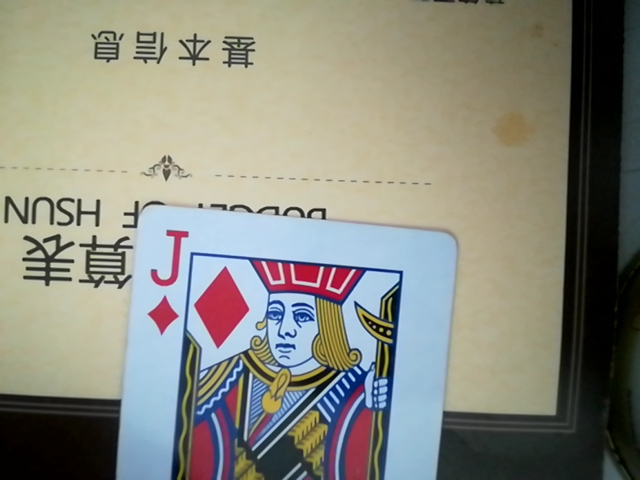fk j: (114, 201, 459, 479)
